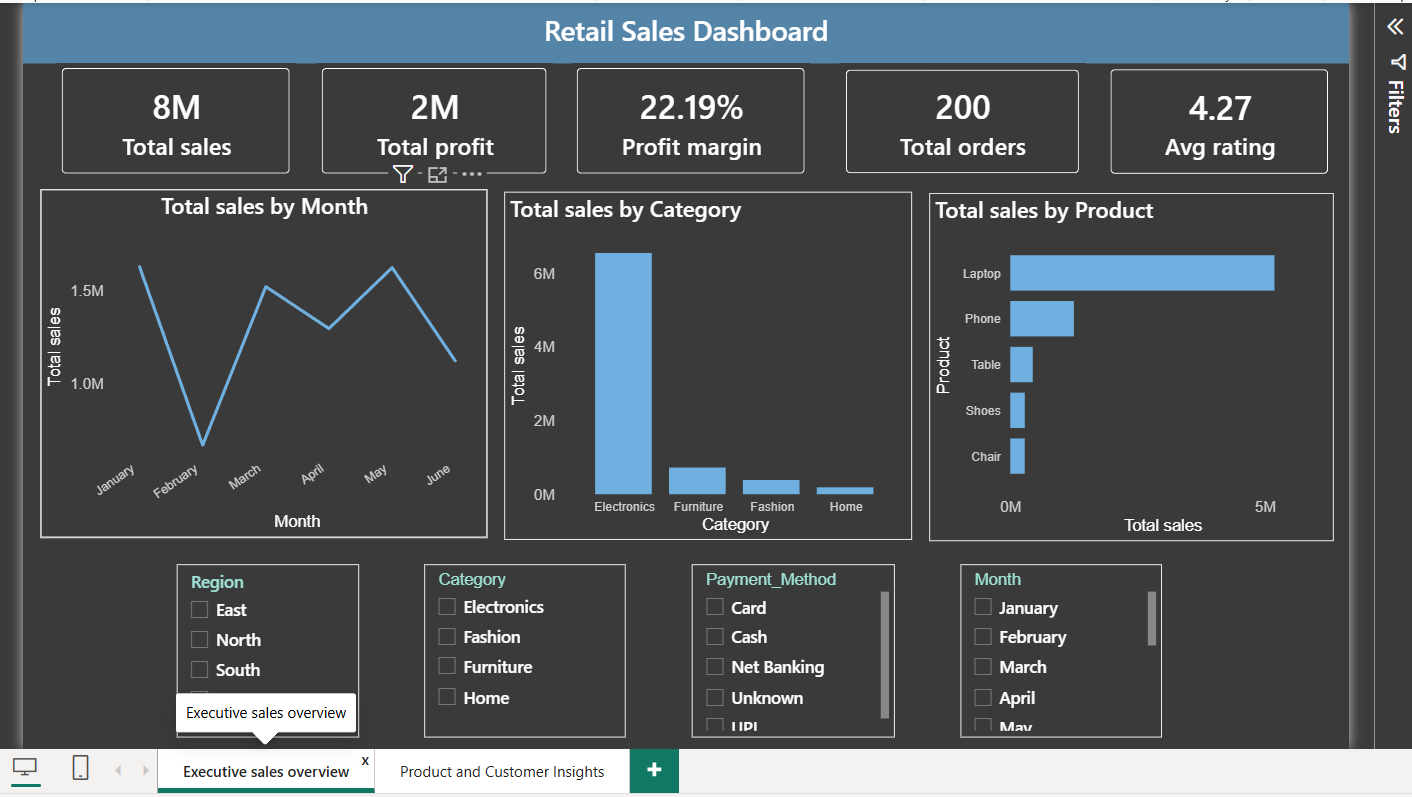

The dashboard page shown, as its layout file describes it:
{"tool":"powerbi","page":{"name":"Executive sales overview","canvas":[1280,720],"ordinal":0},"visuals":[{"type":"textbox","box":[0,0,1280.2,58.2],"z":0},{"type":"cardVisual","fields":{"Data":["Retail_sales_analysis - Sheet1.Total sales"]},"box":[33.2,57.7,230.7,112.5],"z":1000},{"type":"cardVisual","fields":{"Data":["Retail_sales_analysis - Sheet1.Total profit"]},"box":[284,57.7,227.8,112.5],"z":2000},{"type":"cardVisual","fields":{"Data":["Retail_sales_analysis - Sheet1.Profit margin %"]},"box":[529.1,57.7,230.7,112.5],"z":3000},{"type":"cardVisual","fields":{"Data":["Retail_sales_analysis - Sheet1.Total orders"]},"box":[787.2,57.7,237.9,112.5],"z":4000},{"type":"cardVisual","fields":{"Data":["Retail_sales_analysis - Sheet1.Avg rating"]},"box":[1045.3,59.1,220.6,111],"z":5000},{"type":"lineChart","fields":{"Category":["Retail_sales_analysis - Sheet1.Order_Date.Variation.Date Hierarchy.Month"],"Y":["Retail_sales_analysis - Sheet1.Total sales"]},"box":[17.3,180.2,431.1,335.9],"z":6000},{"type":"columnChart","fields":{"Category":["Retail_sales_analysis - Sheet1.Category"],"Y":["Retail_sales_analysis - Sheet1.Total sales"]},"box":[464.3,181.7,393.6,335.9],"z":7000},{"type":"barChart","fields":{"Y":["Retail_sales_analysis - Sheet1.Total sales"],"Category":["Retail_sales_analysis - Sheet1.Product"]},"box":[875.2,183.1,390.7,335.9],"z":8000},{"type":"slicer","fields":{"Values":["Retail_sales_analysis - Sheet1.Region"]},"box":[148.5,542.1,175.9,167.2],"z":9000},{"type":"slicer","fields":{"Values":["Retail_sales_analysis - Sheet1.Category"]},"box":[387.8,542.1,194.6,167.2],"z":10000},{"type":"slicer","fields":{"Values":["Retail_sales_analysis - Sheet1.Payment_Method"]},"box":[645.9,542.1,196.1,167.2],"z":11000},{"type":"slicer","fields":{"Values":["Retail_sales_analysis - Sheet1.Order_Date.Variation.Date Hierarchy.Month"]},"box":[905.4,542.1,194.6,167.2],"z":12000}]}

Visuals, with their boxes on the page's 1280x720 design canvas (x1, y1, x2, y2). These are canvas units, not pixel positions in the 1412x797 screenshot, which may show the page scaled, cropped or inside an application window:
textbox: box=[0, 0, 1280, 58]
cardVisual - Retail_sales_analysis - Sheet1.Total sales: box=[33, 58, 264, 170]
cardVisual - Retail_sales_analysis - Sheet1.Total profit: box=[284, 58, 512, 170]
cardVisual - Retail_sales_analysis - Sheet1.Profit margin %: box=[529, 58, 760, 170]
cardVisual - Retail_sales_analysis - Sheet1.Total orders: box=[787, 58, 1025, 170]
cardVisual - Retail_sales_analysis - Sheet1.Avg rating: box=[1045, 59, 1266, 170]
lineChart - Retail_sales_analysis - Sheet1.Order_Date.Variation.Date Hierarchy.Month x Retail_sales_analysis - Sheet1.Total sales: box=[17, 180, 448, 516]
columnChart - Retail_sales_analysis - Sheet1.Category x Retail_sales_analysis - Sheet1.Total sales: box=[464, 182, 858, 518]
barChart - Retail_sales_analysis - Sheet1.Total sales x Retail_sales_analysis - Sheet1.Product: box=[875, 183, 1266, 519]
slicer - Retail_sales_analysis - Sheet1.Region: box=[148, 542, 324, 709]
slicer - Retail_sales_analysis - Sheet1.Category: box=[388, 542, 582, 709]
slicer - Retail_sales_analysis - Sheet1.Payment_Method: box=[646, 542, 842, 709]
slicer - Retail_sales_analysis - Sheet1.Order_Date.Variation.Date Hierarchy.Month: box=[905, 542, 1100, 709]
